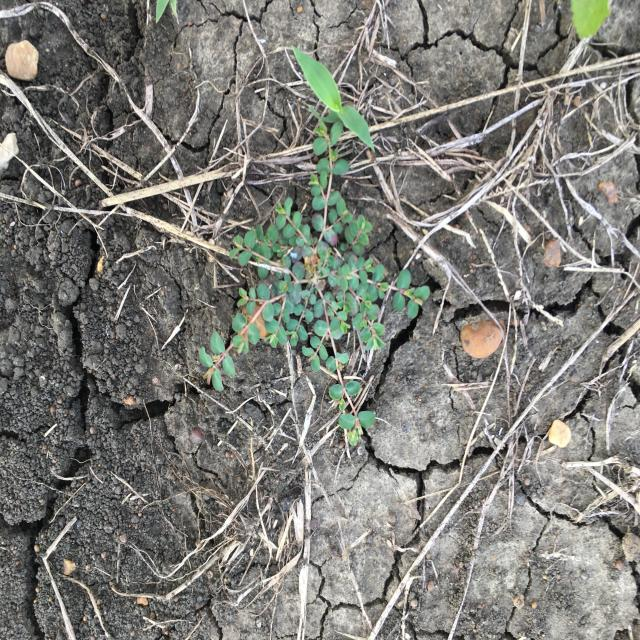SpottedSpurge: (197, 118, 432, 448)
